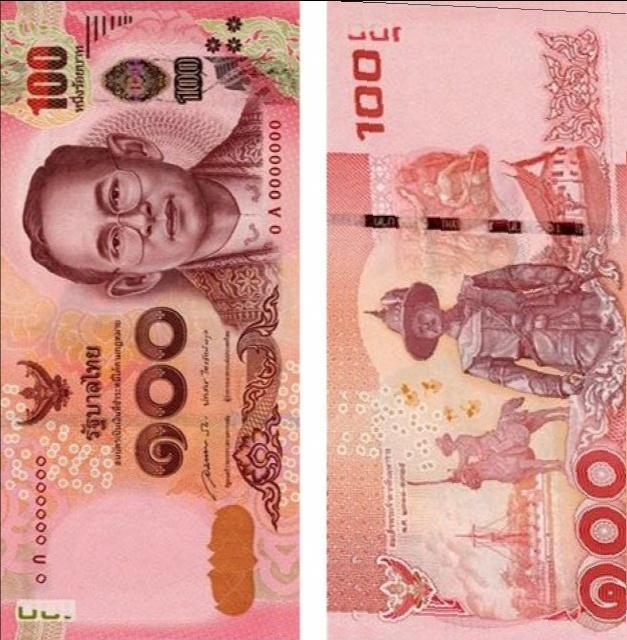100BahtTai: (330, 0, 627, 640)
